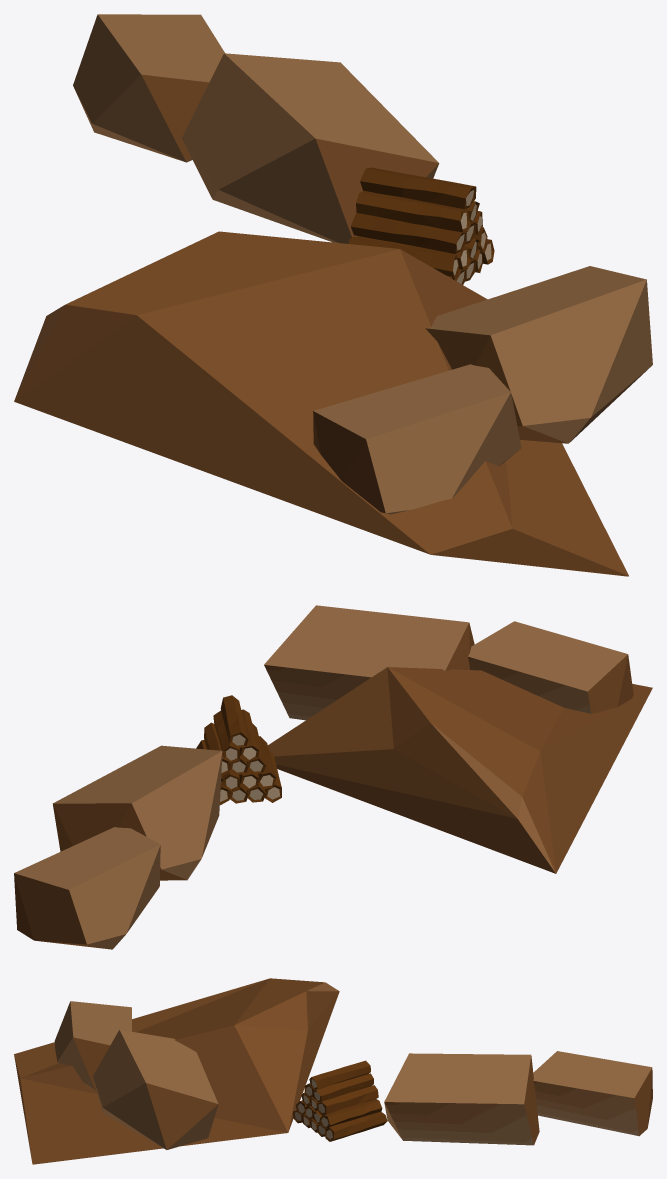
Rendered from bandit_camp-missing-export.fbx.
3 renders of one model, top to bottom at view 1: azimuth 30°, elevation 25°; view 2: azimuth 150°, elevation 25°; view 3: azimuth 270°, elevation 25°, orthographic. The views are drawn at different scales.
Parts seen in each view (by area): view 1: log missing; view 2: log missing; view 3: log missing.
Boxes of the visible parts, bbox=[...] form: log missing: bbox=[14, 14, 652, 576]; log missing: bbox=[14, 605, 652, 949]; log missing: bbox=[14, 978, 652, 1164].
Bounding box in the file's own units: 23156 × 4976 × 12086.
